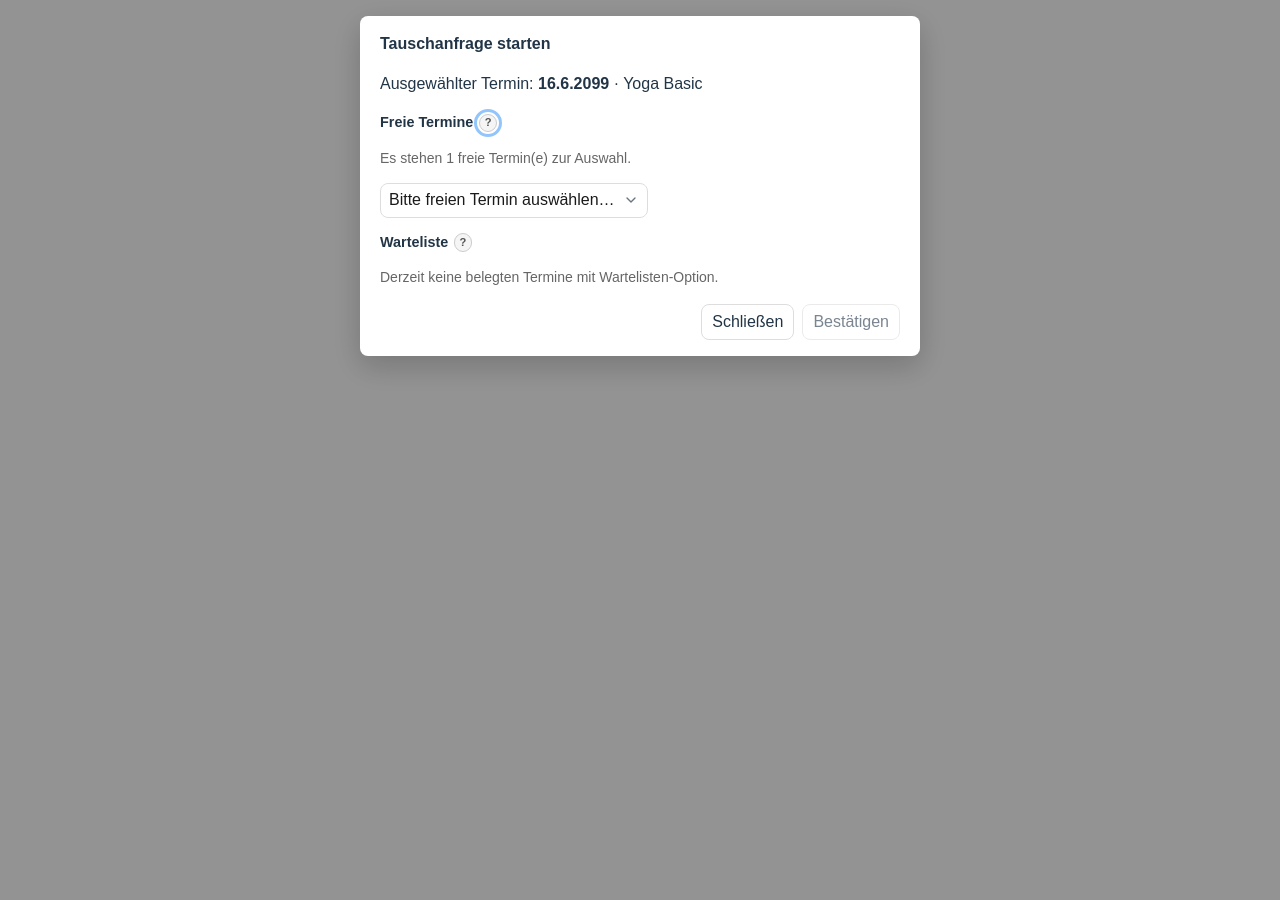
Test: CourseSwapModal › blendet Hilfe-Popover standardmäßig aus und schließt es wieder
This screenshot has width=1280, height=900.
Click the button named "Hilfe: Freie Tauschtermine" at {"x": 488, "y": 123}, box [479,114,497,132]
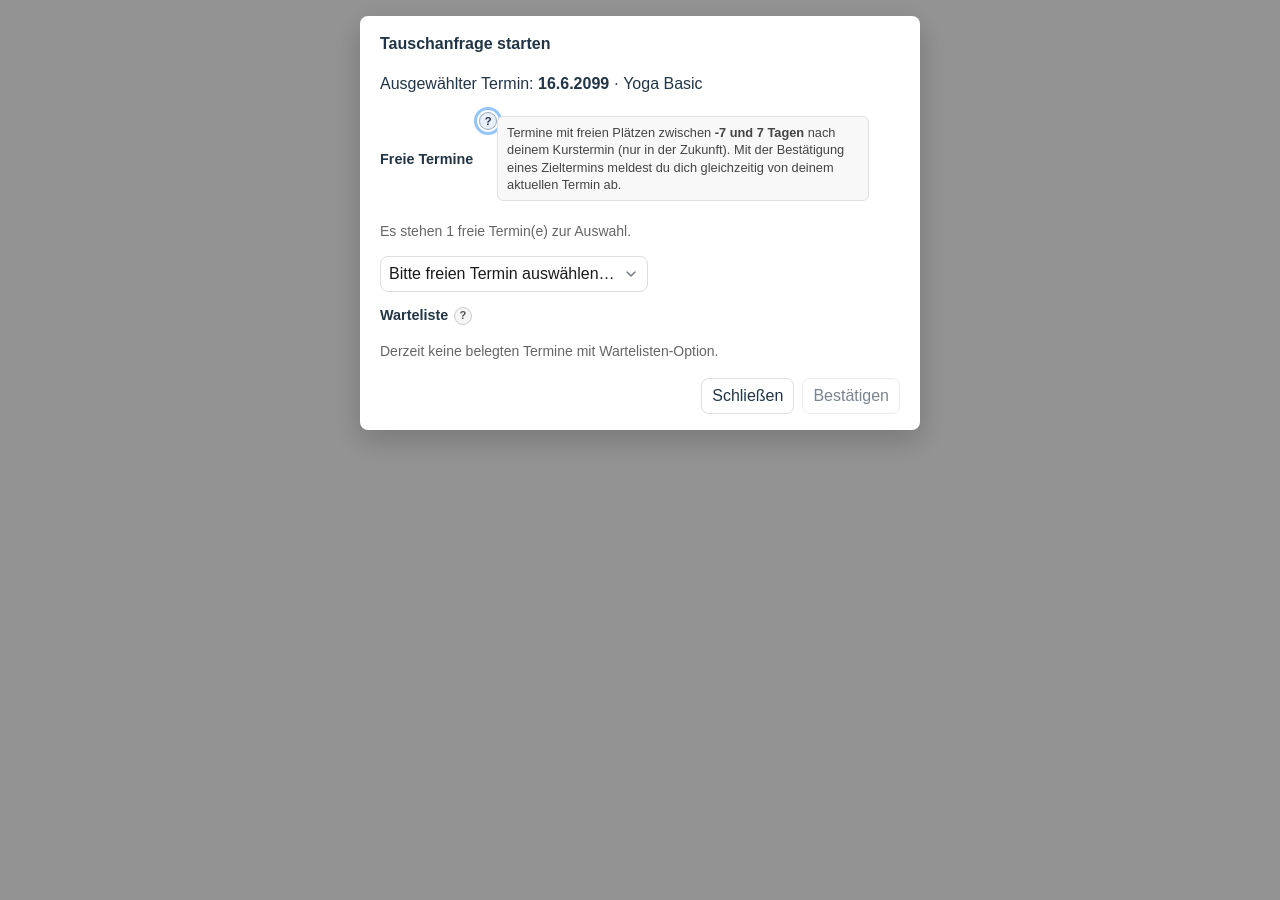
Check: the element named "Freie Tauschtermine" is shown, box [497,116,869,201]
Check: the button named "Hilfe: Freie Tauschtermine" is expanded
Click the button named "Hilfe: Freie Tauschtermine" at {"x": 488, "y": 121}, box [479,112,497,130]
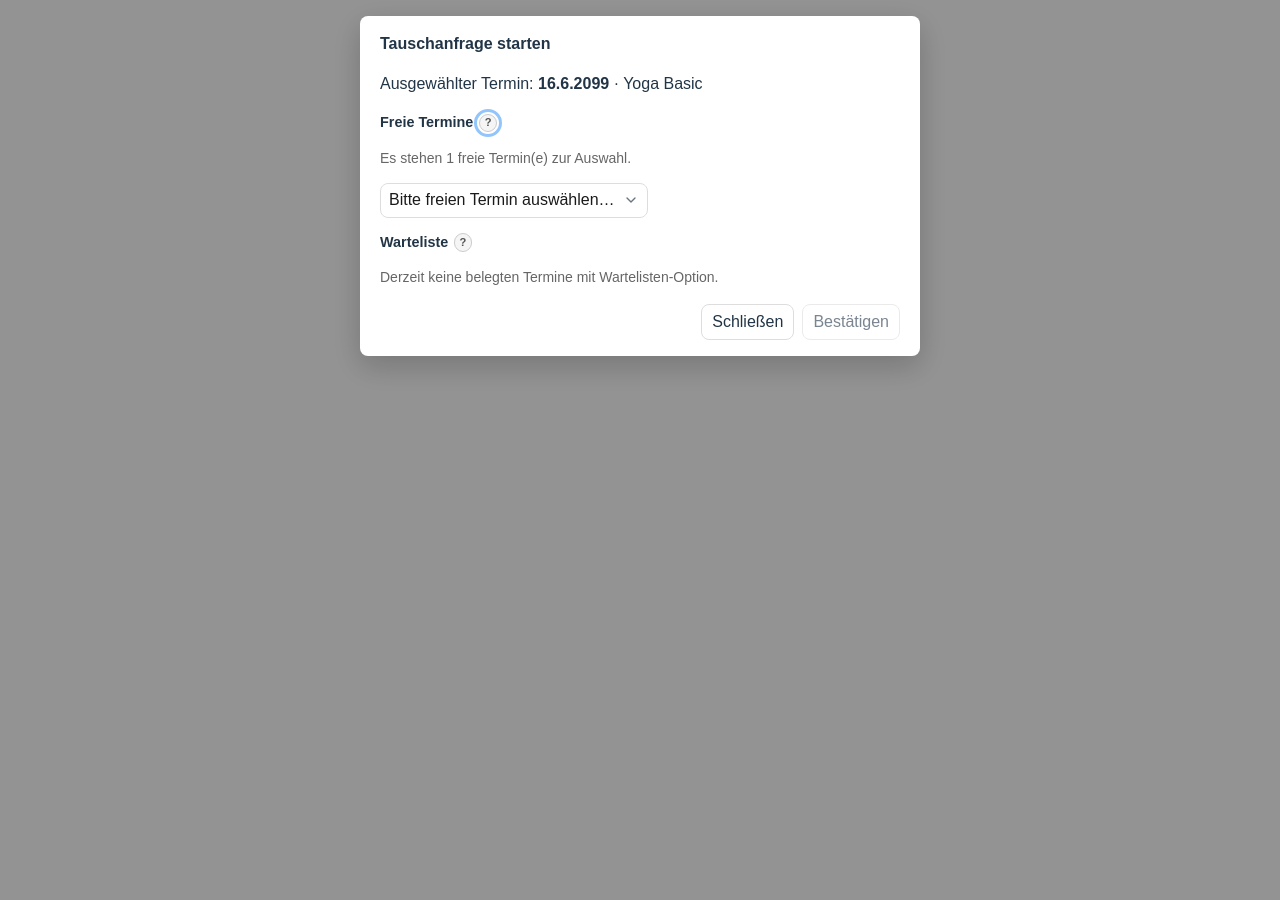
Check: the button named "Hilfe: Freie Tauschtermine" is collapsed, box [479,114,497,132]
